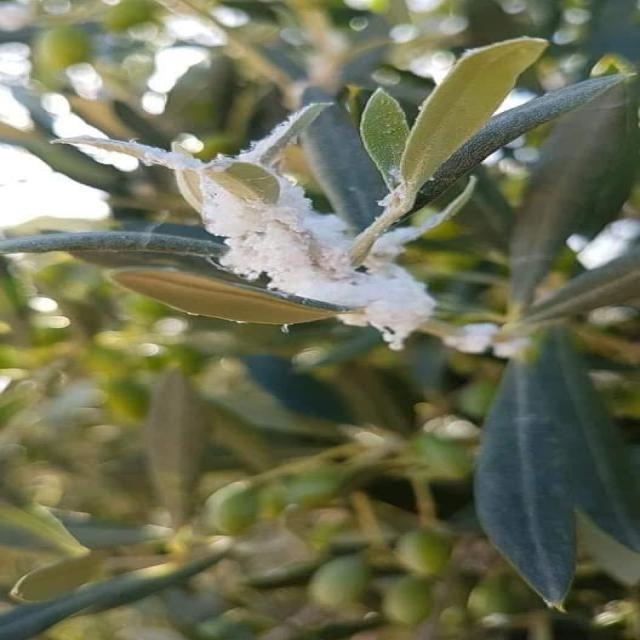Psyllid: (67, 104, 474, 349)
